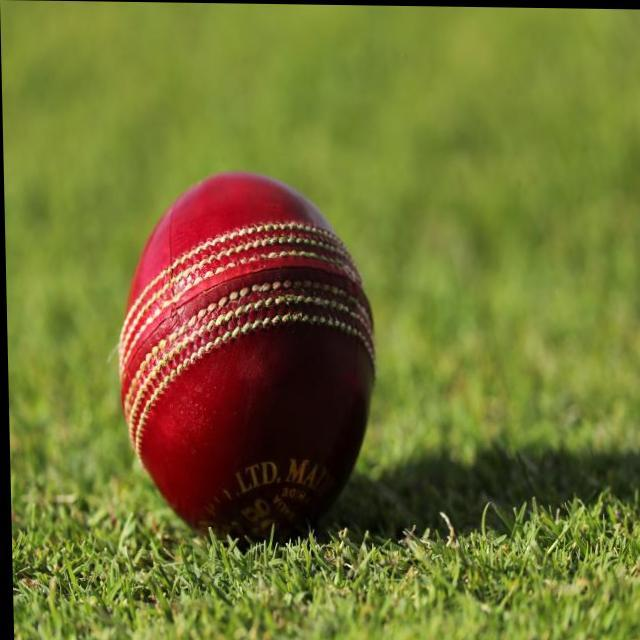cricket ball: (116, 168, 375, 553)
